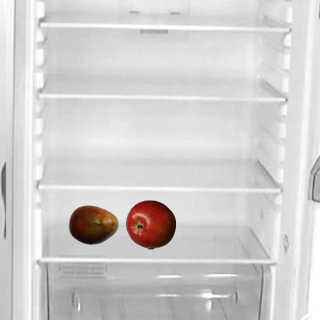Apple Braeburn: (125, 199, 175, 249)
Mango Red: (68, 199, 118, 249)
